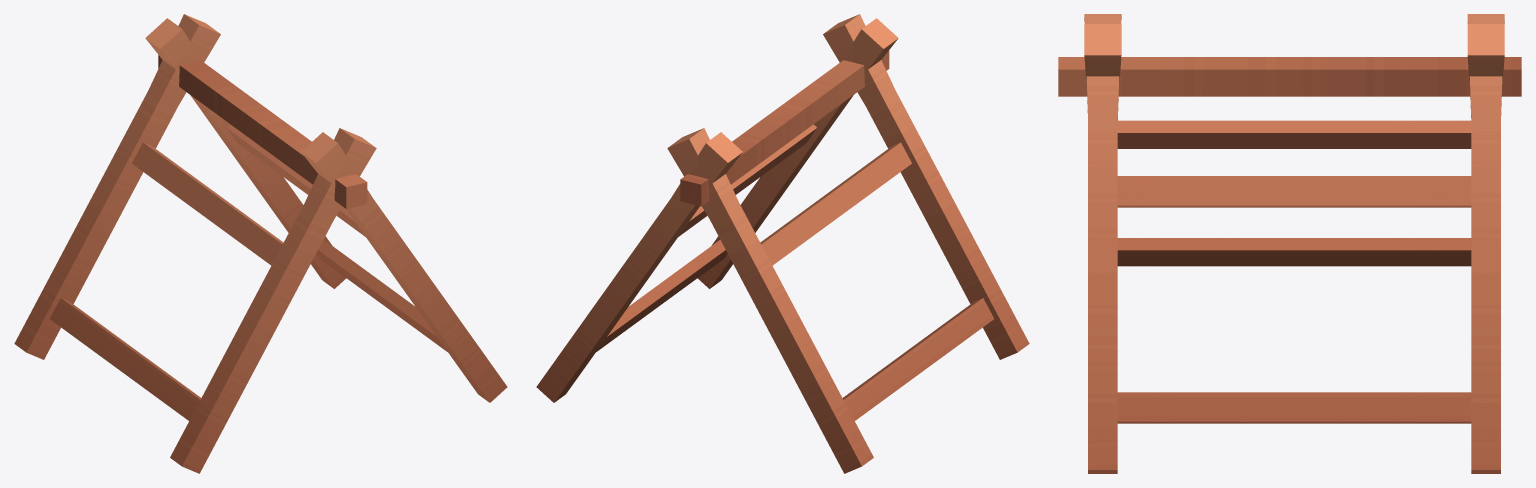
File: tent.glb
3 renders of one model, left to right at view 1: azimuth 30°, elevation 25°; view 2: azimuth 150°, elevation 25°; view 3: azimuth 270°, elevation 25°, orthographic. The views are drawn at different scales.
Visible parts, largest first — view 1: tent; view 2: tent; view 3: tent.
Part boxes in pixels (x1=…): tent: x1=14, y1=14, x2=507, y2=473; tent: x1=536, y1=14, x2=1029, y2=473; tent: x1=1058, y1=14, x2=1521, y2=473.
Size of the model in its own units: 0.5608 by 0.4914 by 0.561.
1 material, 1 textured.
